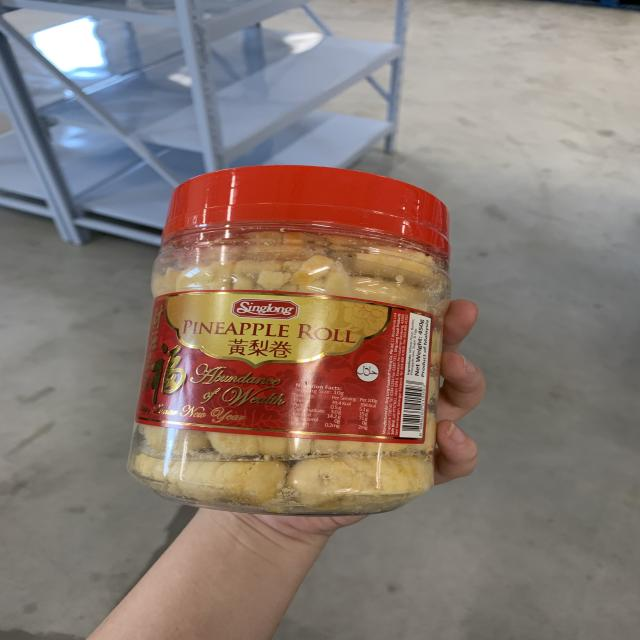object_name: (154, 183, 426, 506)
